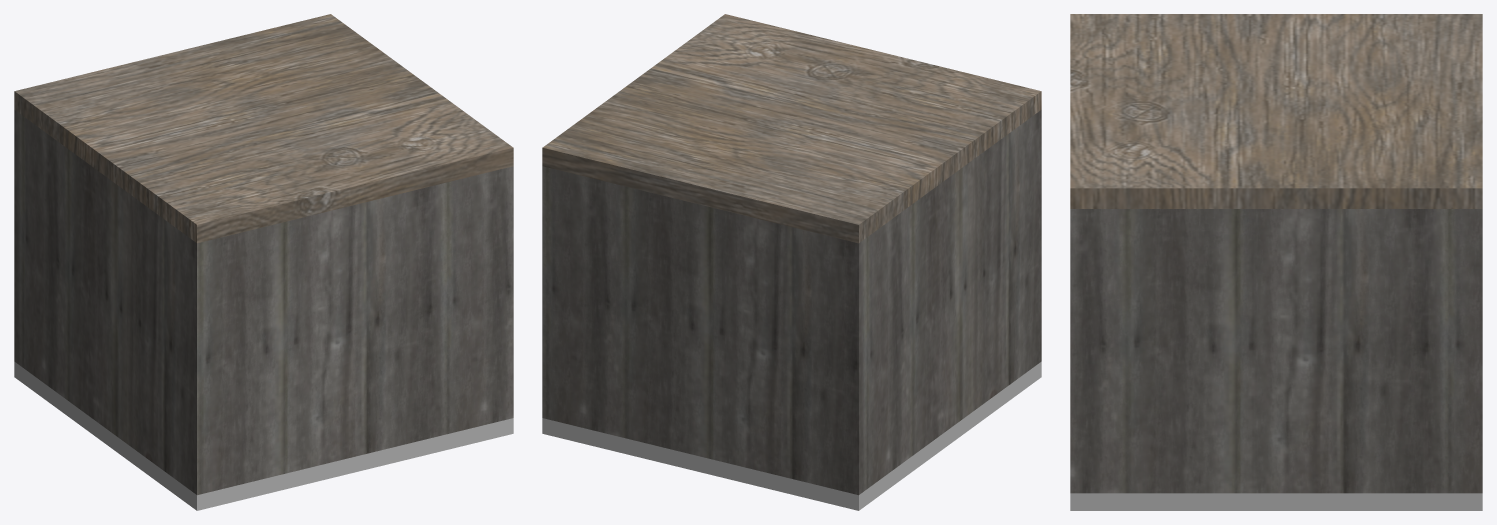
Rendered from jov_roofwood_0td.fbx.
The picture shows the model from 3 angles, left to right: view 1: azimuth 30°, elevation 25°; view 2: azimuth 150°, elevation 25°; view 3: azimuth 270°, elevation 25°; orthographic projection. The views are drawn at different scales.
Parts seen in each view (by area): view 1: jov_roofwood_0td; view 2: jov_roofwood_0td; view 3: jov_roofwood_0td.
Part boxes in pixels (x1,y1,x2,y2): jov_roofwood_0td: (14, 14, 513, 510); jov_roofwood_0td: (542, 14, 1041, 510); jov_roofwood_0td: (1070, 14, 1482, 510).
Size of the model in its own units: 110 by 95.05 by 110.
